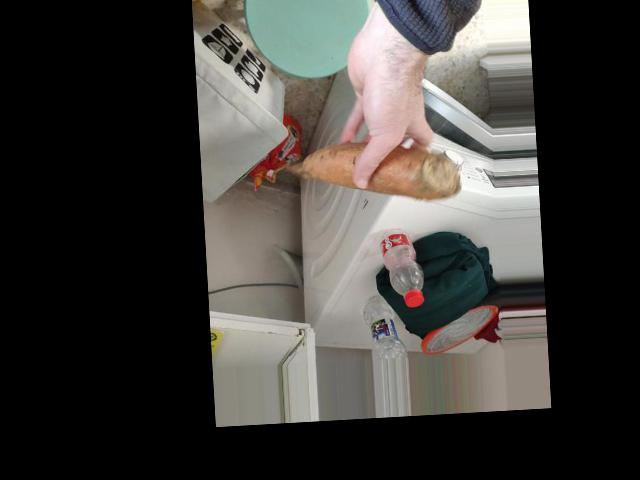sweet_potato: (293, 143, 461, 195)
